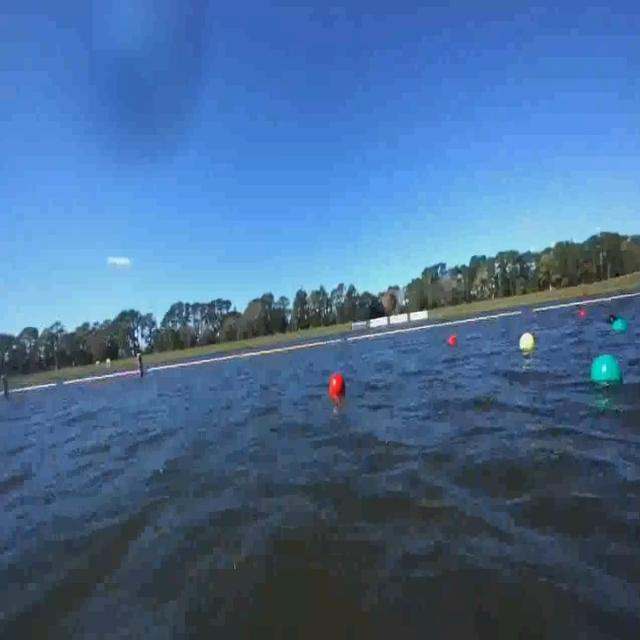green-buoy: (590, 356, 624, 392), (614, 321, 629, 336)
red-buoy: (332, 372, 347, 394), (446, 335, 456, 349), (578, 308, 586, 315)
yellow-buoy: (520, 333, 536, 353)
